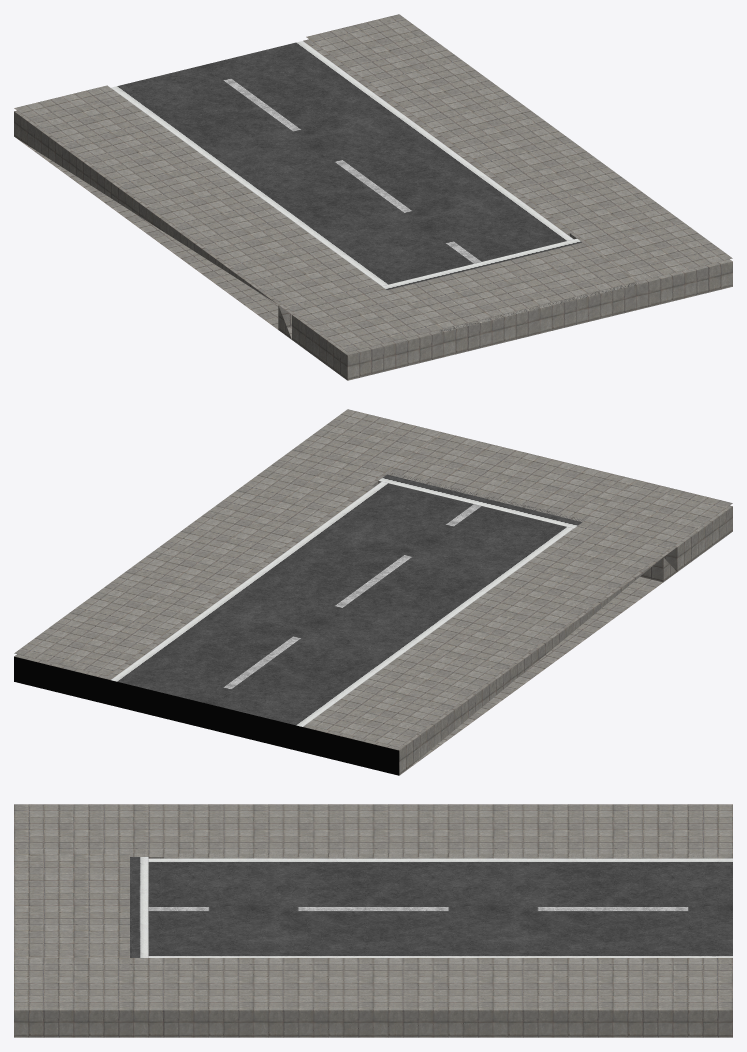
File: SingleEnd_3.fbx
The picture shows the model from 3 angles, top to bottom: view 1: azimuth 30°, elevation 25°; view 2: azimuth 150°, elevation 25°; view 3: azimuth 270°, elevation 25°; orthographic projection. The views are drawn at different scales.
Visible parts, largest first — view 1: materialC150, materialE150; view 2: materialC150, materialE150, materialB150; view 3: materialC150, materialE150.
Part boxes in pixels (x1,y1,x2,y2): materialC150: (14, 14, 732, 380); materialE150: (111, 41, 638, 332); materialC150: (14, 409, 732, 775); materialE150: (111, 473, 584, 726); materialB150: (14, 656, 399, 775); materialC150: (14, 804, 732, 1037); materialE150: (130, 857, 732, 957).
Bounding box in the file's own units: 25.6 × 1.8 × 38.4.
